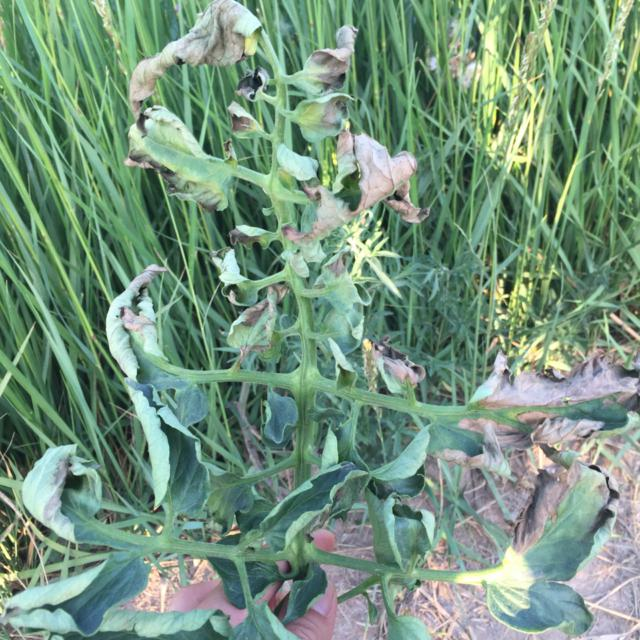Late_blight: (430, 349, 640, 473), (286, 131, 431, 245), (121, 1, 267, 111), (117, 110, 235, 212), (502, 461, 623, 554), (109, 262, 181, 381), (227, 276, 288, 360), (297, 21, 365, 96), (370, 338, 425, 392), (40, 448, 71, 529), (298, 95, 354, 134), (316, 247, 354, 280), (228, 104, 259, 142), (225, 223, 266, 251)
